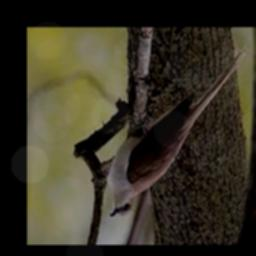Cuckoo: (109, 45, 249, 218)
